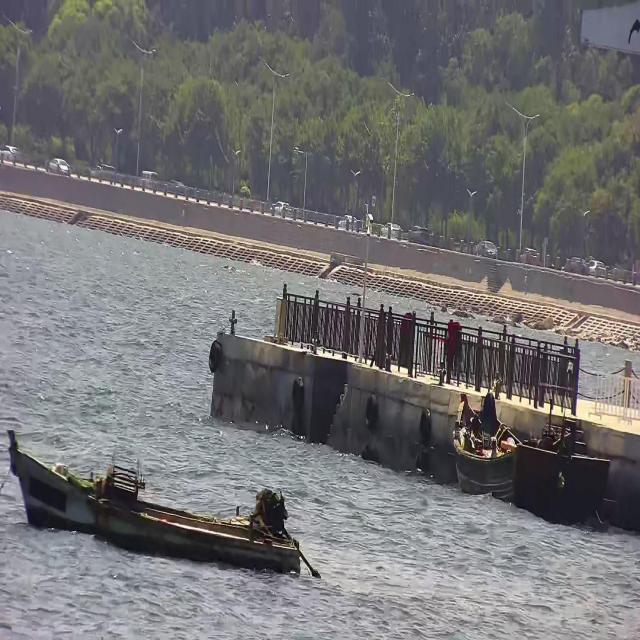ship2: (8, 433, 318, 577)
